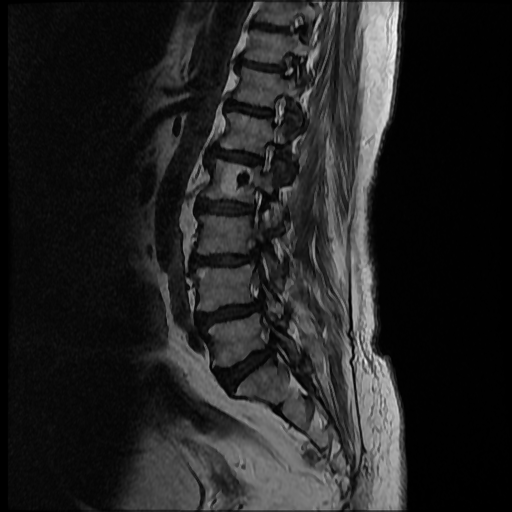LFS0: (245, 133, 281, 181)
